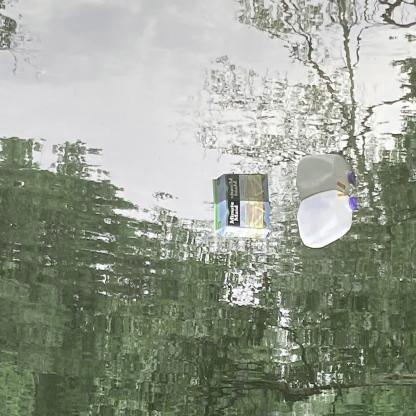Plastic: (294, 186, 360, 254)
